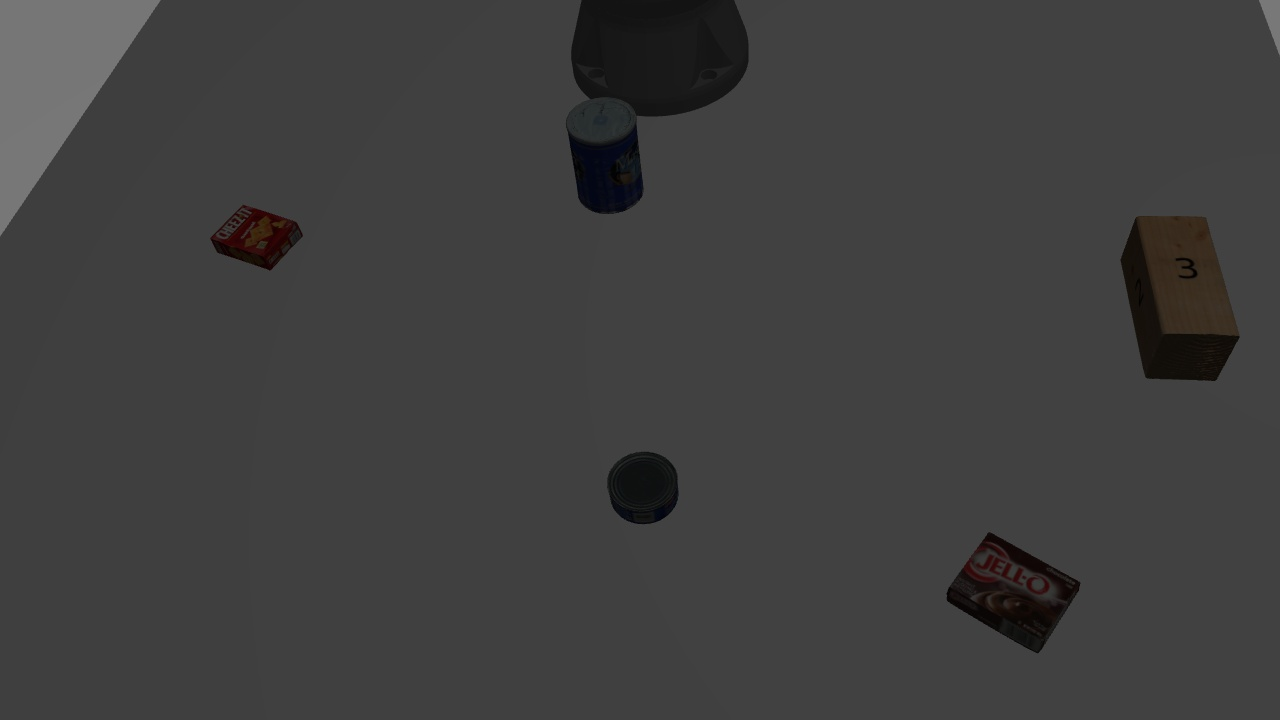cracker_box: (206, 201, 305, 278)
master_chef_can: (561, 98, 654, 215)
pudding_box: (938, 527, 1085, 656)
tuna_fish_can: (602, 443, 684, 531)
wood_block: (1118, 212, 1241, 384)
